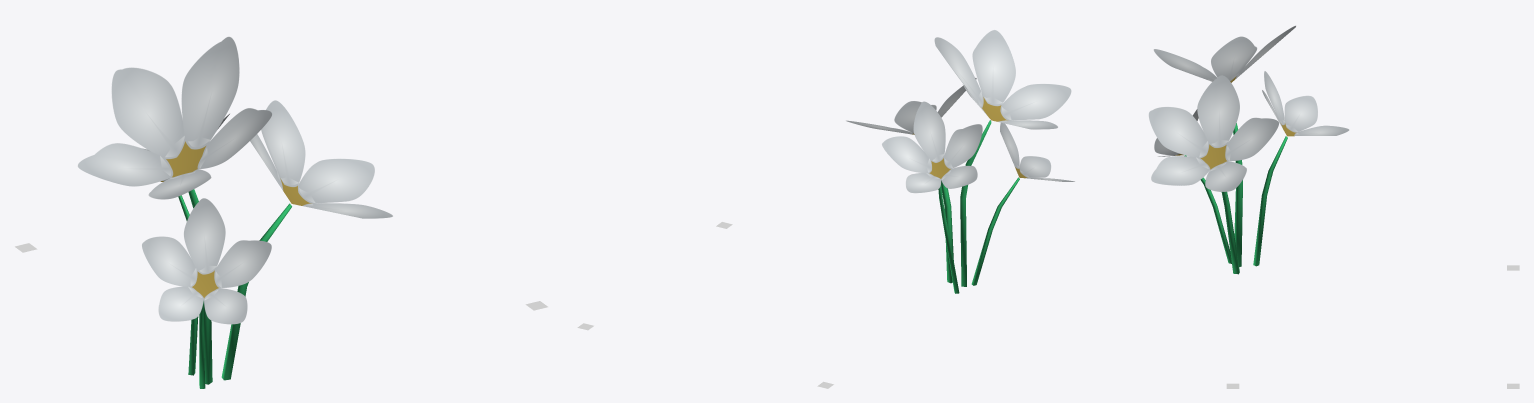
File: white_flowers.glb
3 renders of one model, left to right at view 1: azimuth 30°, elevation 25°; view 2: azimuth 150°, elevation 25°; view 3: azimuth 270°, elevation 25°, orthographic. The views are drawn at different scales.
Visible parts, largest first — view 1: white_flowers; view 2: white_flowers; view 3: white_flowers.
Part boxes in pixels (x1,y1,x2,y2): white_flowers: (78,36,392,388); white_flowers: (846,30,1074,293); white_flowers: (1148,25,1349,274).
Size of the model in its own units: 0.639 by 0.4518 by 0.6237.
1 material, 1 textured.
